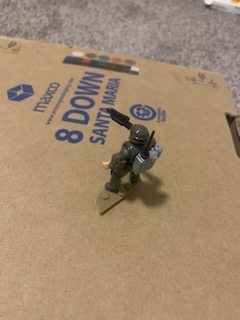soldier: (93, 106, 164, 200)
